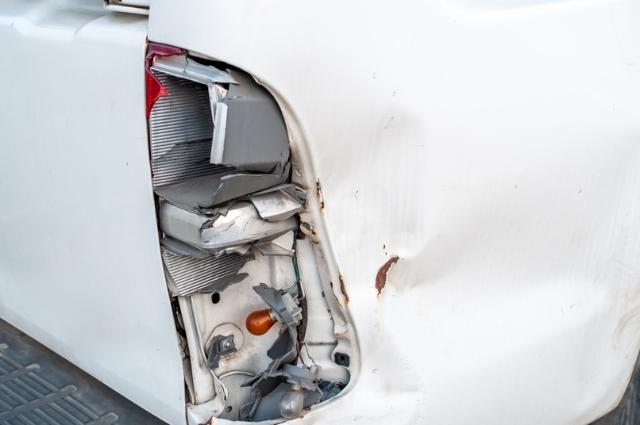Light: (153, 40, 360, 419)
